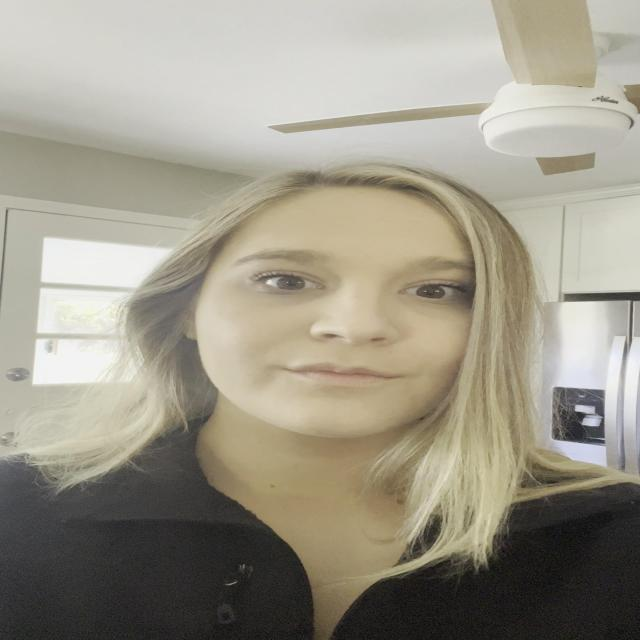no-helmet: (164, 181, 499, 465)
